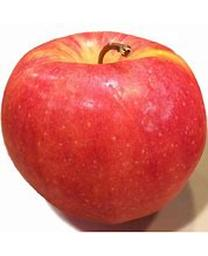apple: (2, 31, 206, 224)
